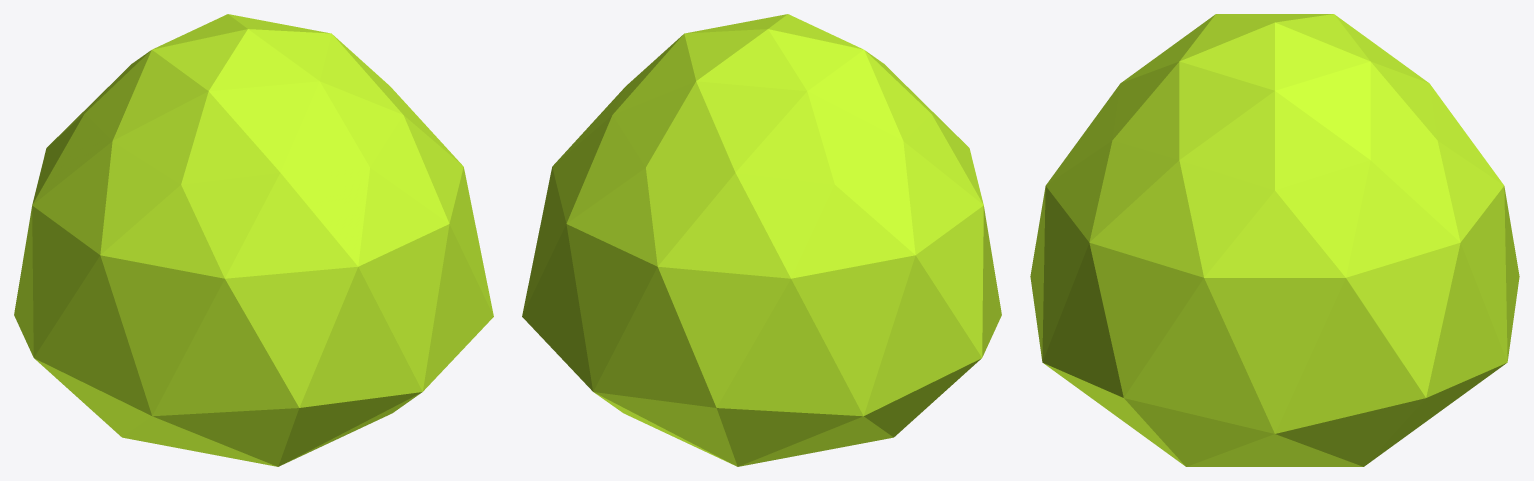
Rendered from Arbol Banano Fase1.fbx.
3 views of the same model, side by side, from view 1: azimuth 30°, elevation 25°; view 2: azimuth 150°, elevation 25°; view 3: azimuth 270°, elevation 25° (orthographic). The views are drawn at different scales.
Parts seen in each view (by area): view 1: Icosphere; view 2: Icosphere; view 3: Icosphere.
Boxes of the visible parts, box(x1,y1,x2,y2) form: Icosphere: box(14, 14, 493, 466); Icosphere: box(522, 14, 1001, 466); Icosphere: box(1030, 14, 1519, 466).
Bounding box in the file's own units: 80.95 × 76.85 × 78.92.
